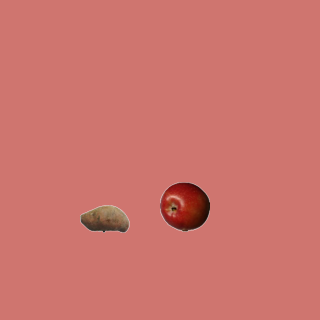Apple Braeburn: (159, 181, 209, 231)
Potato Sweet: (79, 193, 129, 243)
